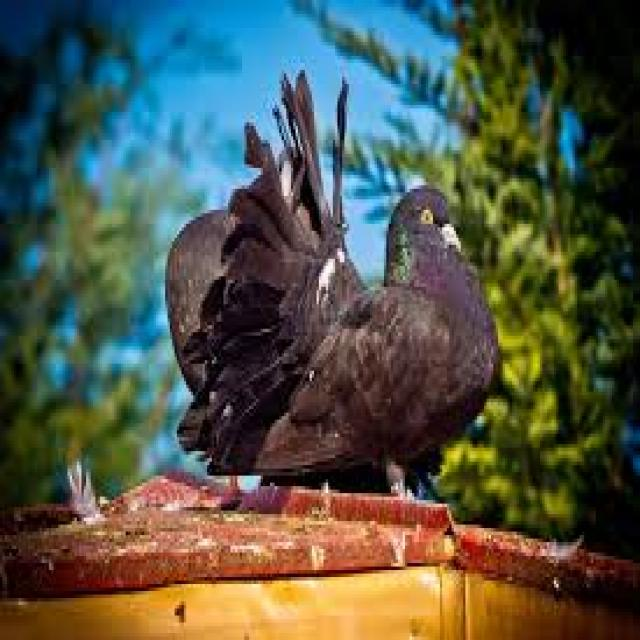pigeon: (189, 53, 500, 507)
